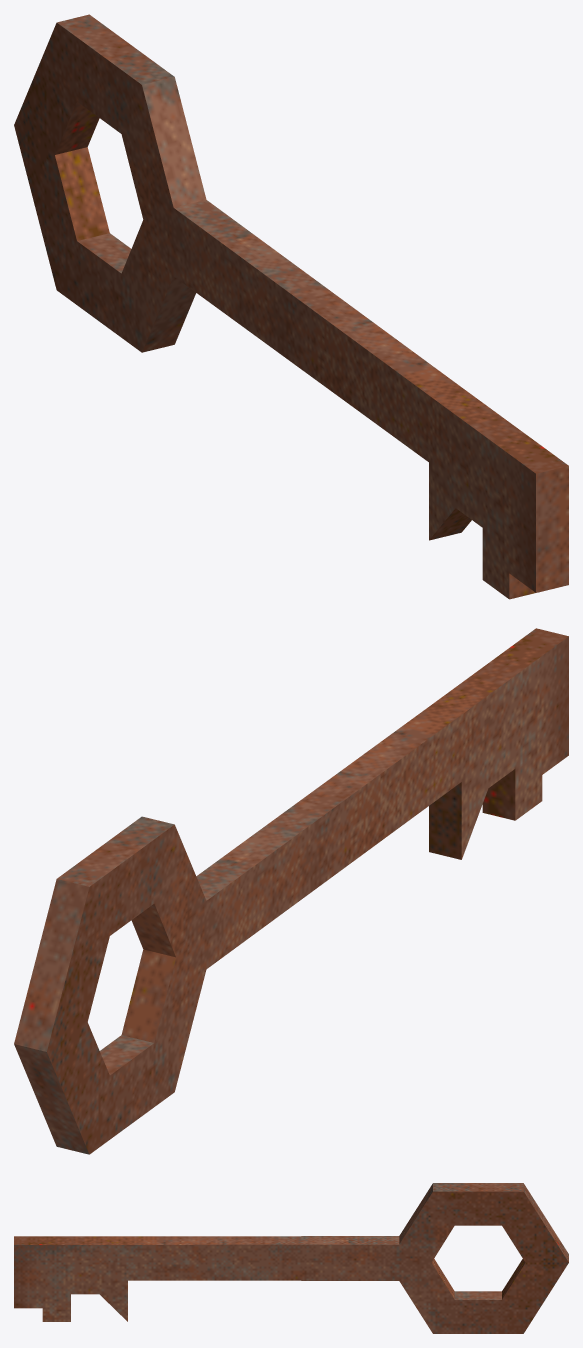
File: Key.fbx
3 views of the same model, one above another, from view 1: azimuth 30°, elevation 25°; view 2: azimuth 150°, elevation 25°; view 3: azimuth 270°, elevation 25° (orthographic). The views are drawn at different scales.
Parts seen in each view (by area): view 1: Key; view 2: Key; view 3: Key.
Part boxes in pixels (x1=…): Key: x1=14, y1=14, x2=568, y2=599; Key: x1=14, y1=628, x2=568, y2=1154; Key: x1=14, y1=1183, x2=568, y2=1333.
Bounding box in the file's own units: 6.13 × 47.75 × 169.
Materials: 1 (1 with a texture image).
